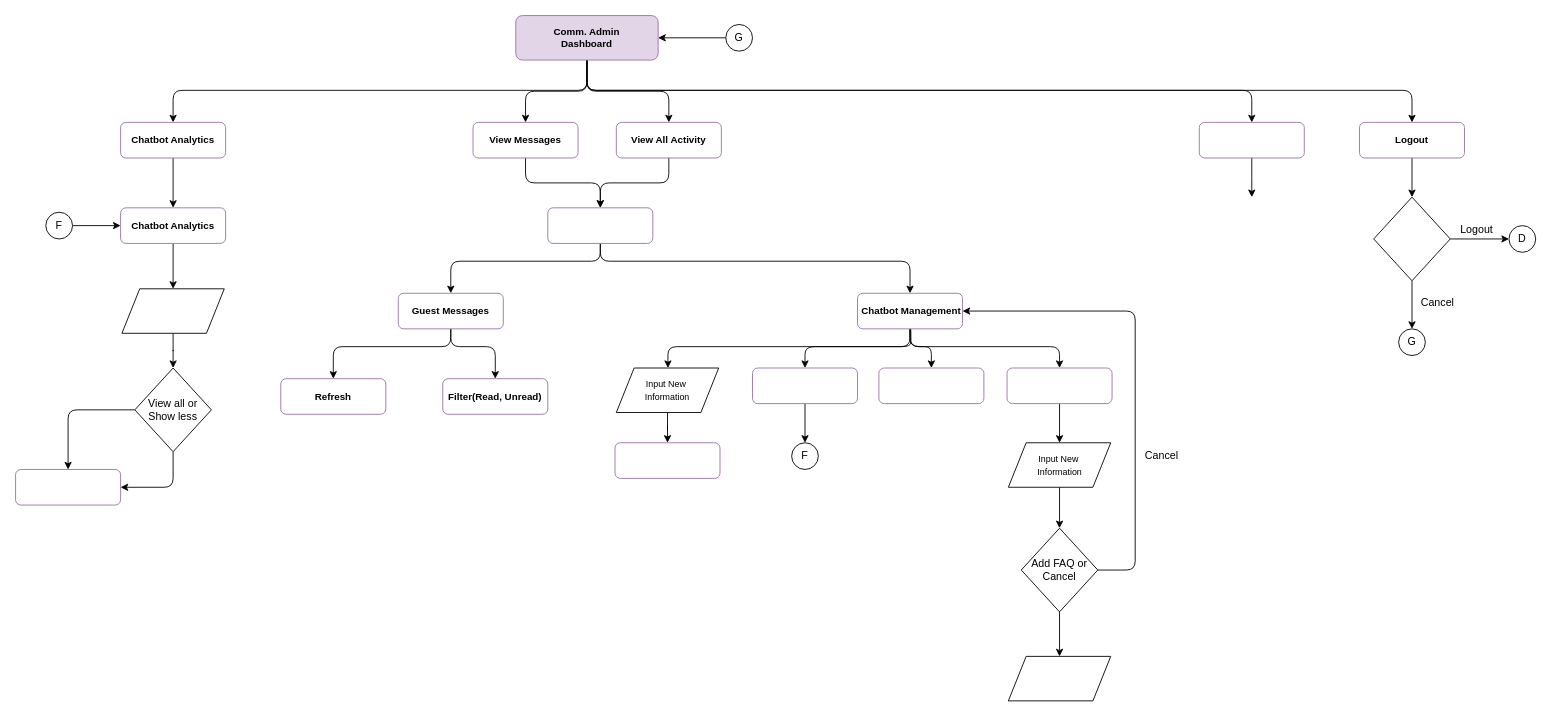
Some shapes in this 1551 by 716 pixel diagram are drawn without their labels. Each missing label, with the centre of its shape:
"ADD FAQ" belongs at point 1059,385.
"Analytics and Monitoring" belongs at point 805,385.
"Chatbot analytics and Monitoring" belongs at point 172,310.
"FAQ Added Successfully" belongs at point 1059,678.
"Live chat" belongs at point 1251,139.
"Logout Confirmation" belongs at point 1411,238.
"Messages" belongs at point 600,225.
"Recent Conversation" belongs at point 68,487.
"Referesh" belongs at point 931,385.
"Save Configuration" belongs at point 667,460.
